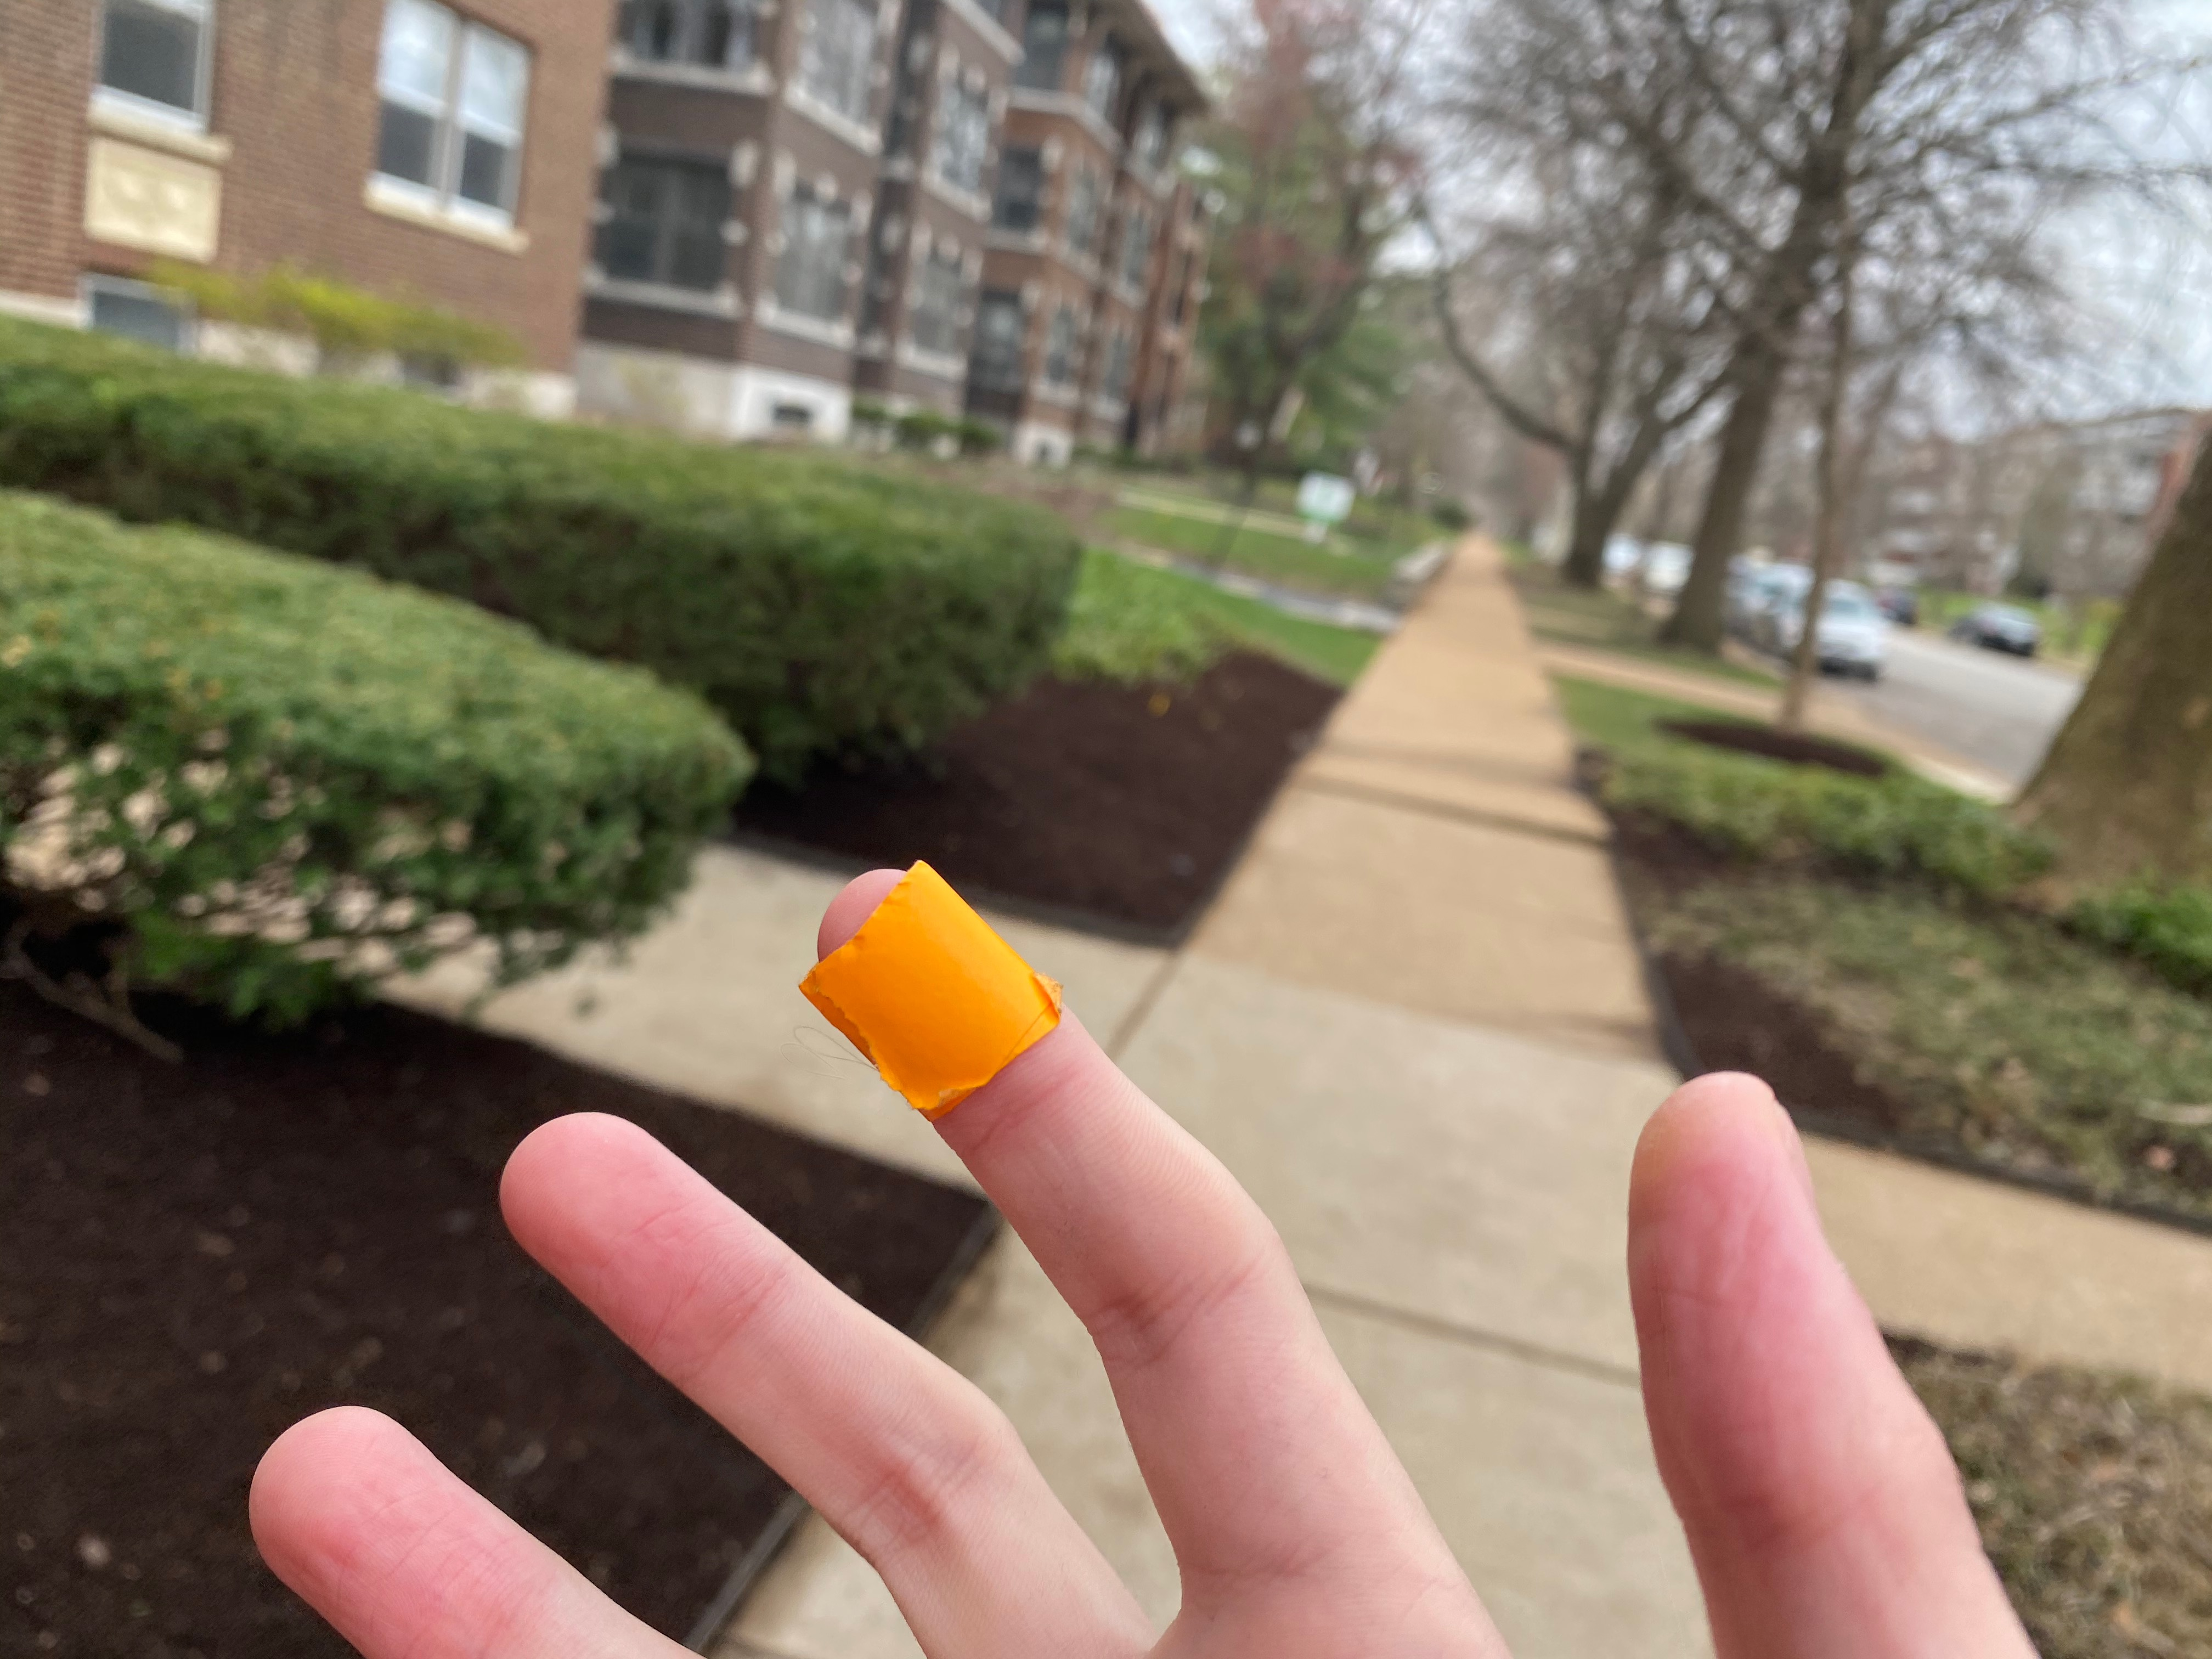fingertip: (779, 849, 1099, 1141)
